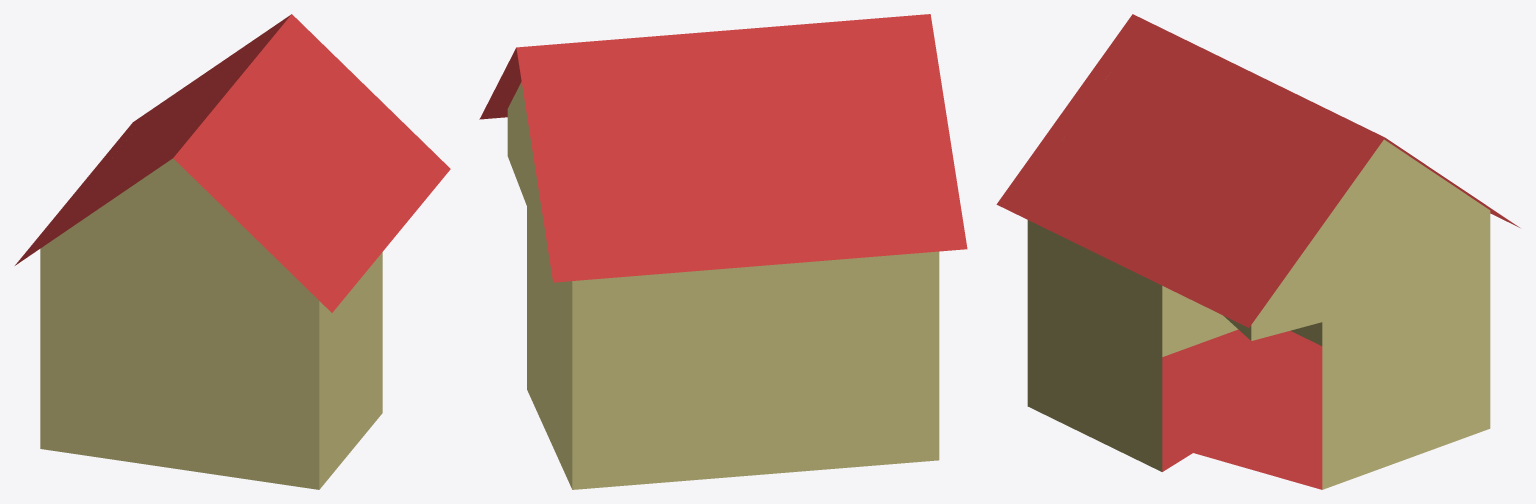
3 views of the same model, side by side, from view 1: azimuth 30°, elevation 25°; view 2: azimuth 150°, elevation 25°; view 3: azimuth 270°, elevation 25° (orthographic). The views are drawn at different scales.
Parts seen in each view (by area): view 1: group_5, group_3, group_4; view 2: group_3, group_5, group_4; view 3: group_5, group_3, group_6, group_4.
Boxes of the visible parts, x1,y1,x2,y2 form: group_5: (40, 158, 382, 489); group_3: (15, 14, 424, 306); group_4: (26, 14, 450, 312); group_3: (479, 14, 967, 282); group_5: (507, 82, 939, 489); group_4: (515, 15, 966, 282); group_5: (1027, 139, 1490, 489); group_3: (1028, 21, 1519, 327); group_6: (1162, 329, 1322, 489); group_4: (996, 14, 1506, 327).
Size of the model in its own units: 17.88 by 17.79 by 12.77.
